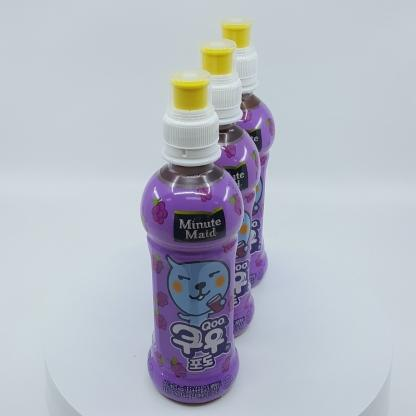------300ML: (140, 68, 244, 404)
